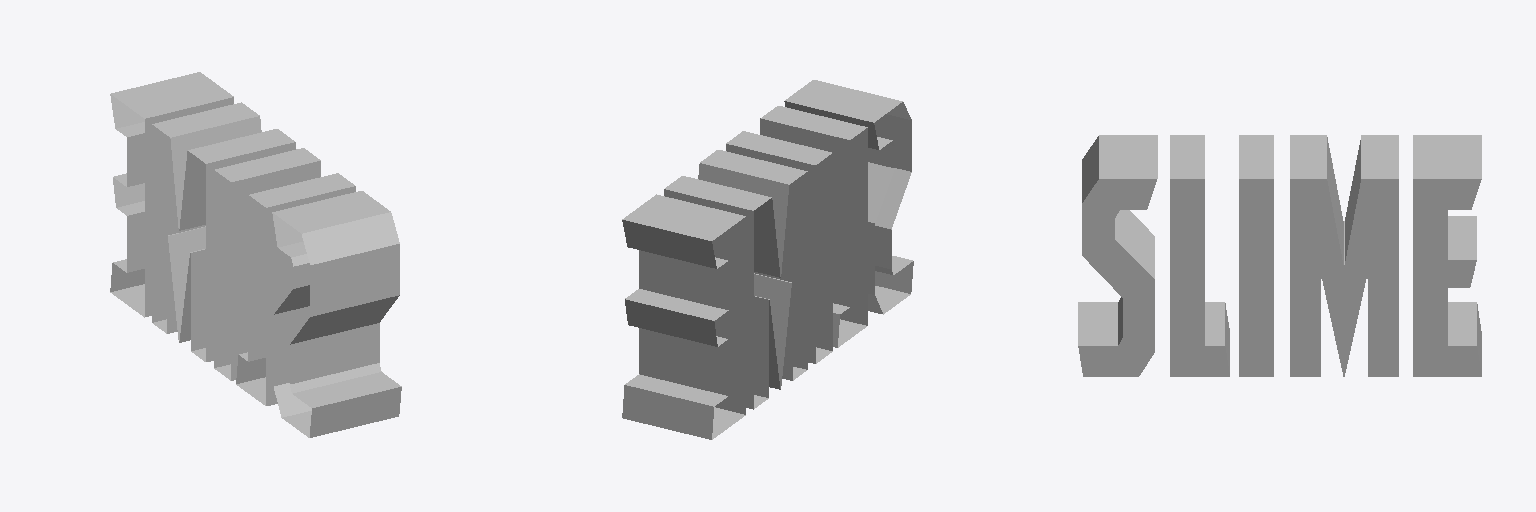
File: typemesh_slime.obj
3 views of the same model, side by side, from view 1: azimuth 30°, elevation 25°; view 2: azimuth 150°, elevation 25°; view 3: azimuth 270°, elevation 25° (orthographic).
Visible parts, largest first — view 1: typeMesh_slime group2; view 2: typeMesh_slime group2; view 3: typeMesh_slime group2.
Boxes of the visible parts, box(x1,y1,x2,y2) form: typeMesh_slime group2: box(110, 72, 401, 437); typeMesh_slime group2: box(622, 80, 913, 439); typeMesh_slime group2: box(1078, 135, 1481, 376).
Bounding box in the file's own units: 0.0946 × 0.1999 × 0.3682.